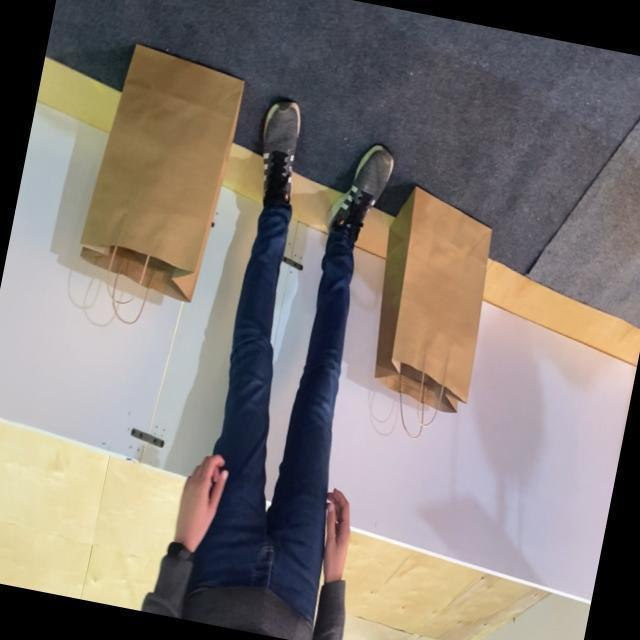Paper_Bag: (66, 40, 248, 338), (350, 183, 506, 448)
